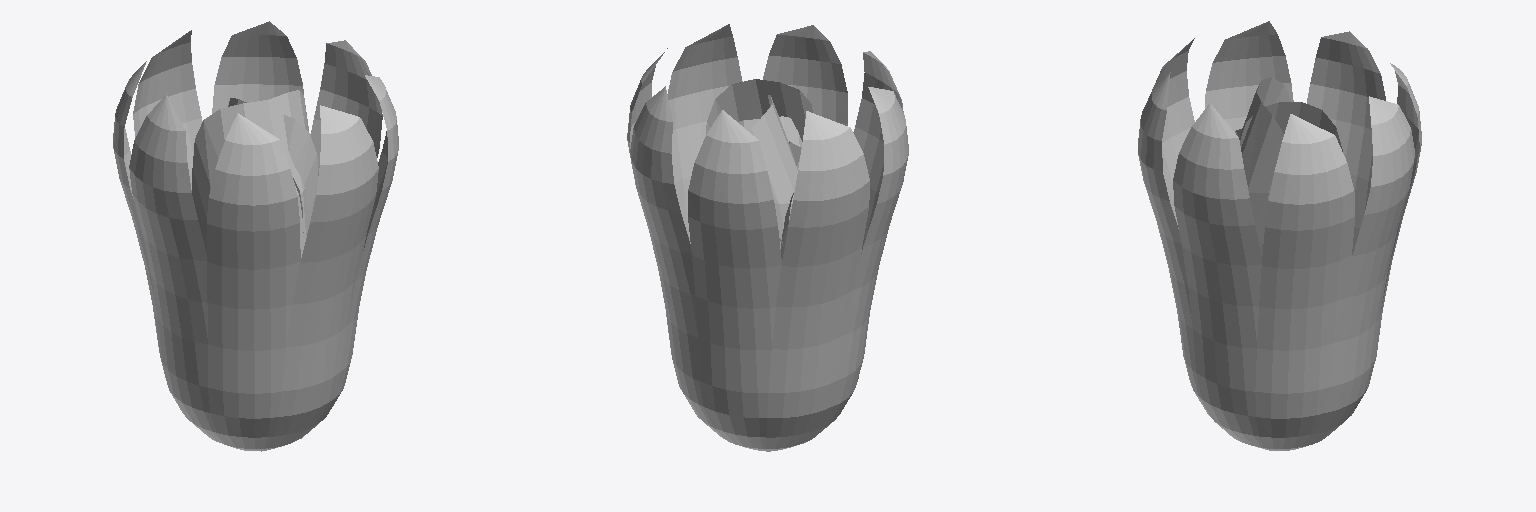
File: FlowerTopModel_03_seq_0017.obj
3 views of the same model, side by side, from view 1: azimuth 30°, elevation 25°; view 2: azimuth 150°, elevation 25°; view 3: azimuth 270°, elevation 25° (orthographic).
Visible parts, largest first — view 1: FlowerTopModel_03; view 2: FlowerTopModel_03; view 3: FlowerTopModel_03.
Part boxes in pixels (x1,y1,x2,y2): FlowerTopModel_03: (113, 21, 398, 451); FlowerTopModel_03: (627, 24, 908, 451); FlowerTopModel_03: (1138, 21, 1421, 450).
Bounding box in the file's own units: 248 × 364 × 248.